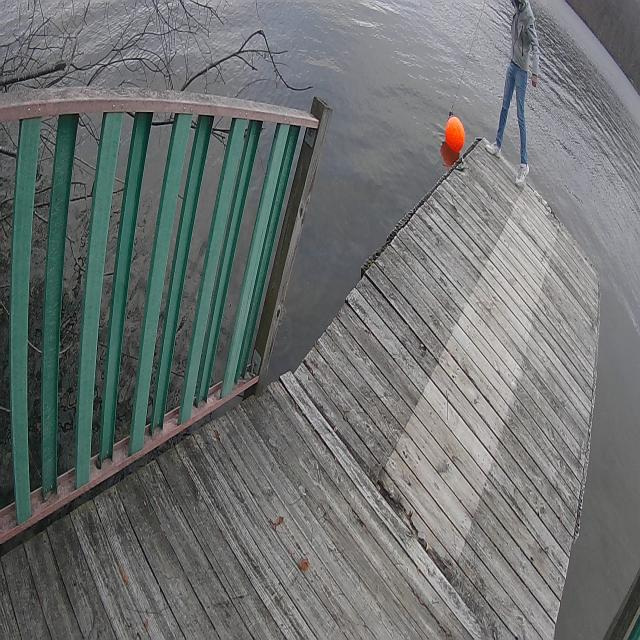Buoy: (441, 102, 469, 156)
